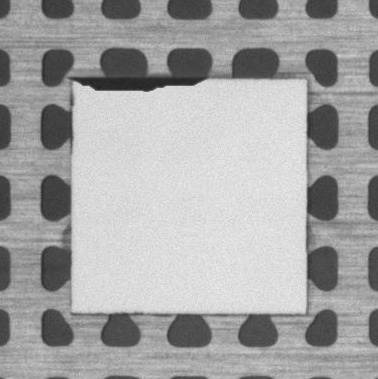DIE_BROKEN: (76, 71, 208, 95)
